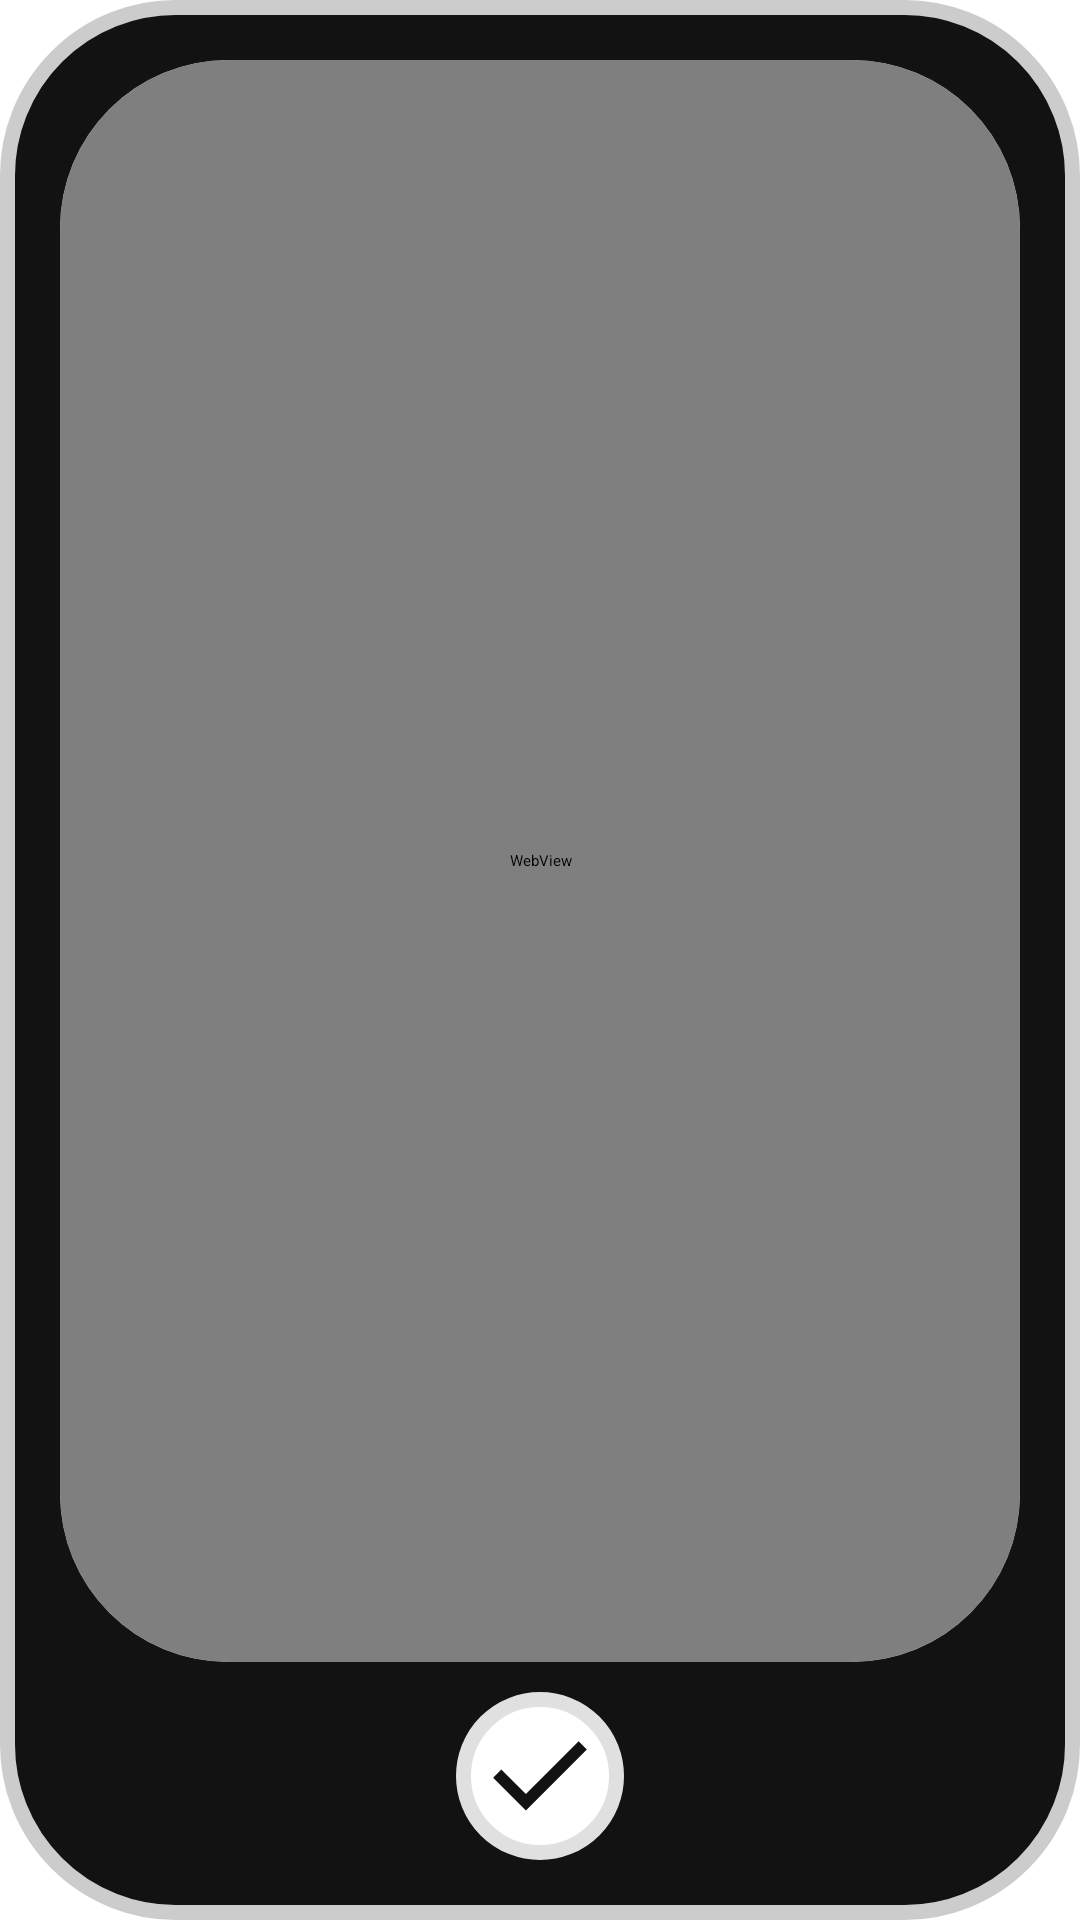

Named icons in this screenshot (1080 x 1920) and their bounding boxes, (x1, y1, x2, y2):
OK: (456, 1692, 624, 1860)
